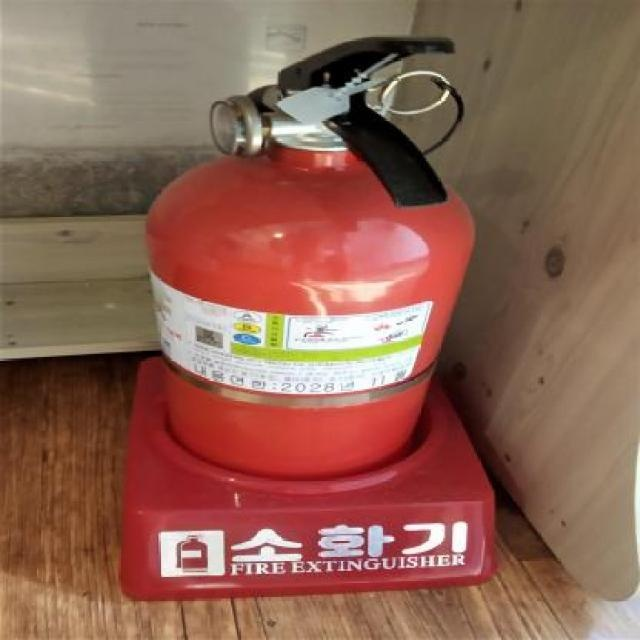fire extinguisher: (143, 35, 475, 481)
